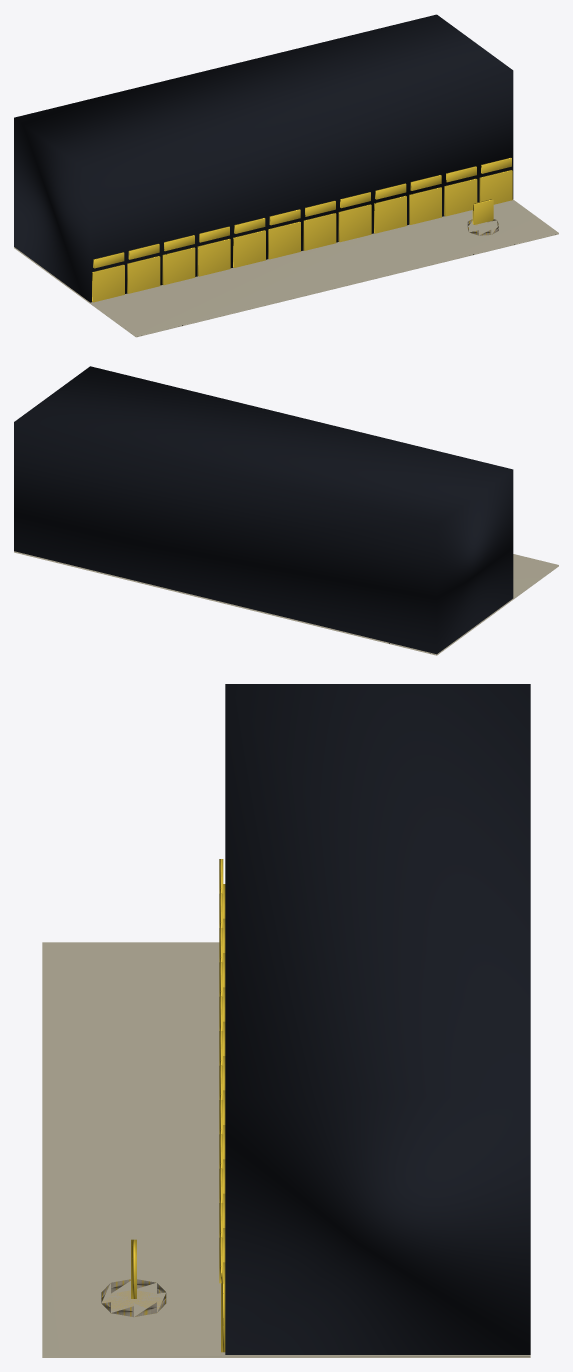
3 views of the same model, one above another, from view 1: azimuth 30°, elevation 25°; view 2: azimuth 150°, elevation 25°; view 3: azimuth 270°, elevation 25° (orthographic). The views are drawn at different scales.
Visible parts, largest first — view 1: building_simplified, floor_simplified; view 2: building_simplified, floor_simplified; view 3: building_simplified, floor_simplified.
Boxes of the visible parts, x1,y1,x2,y2 form: building_simplified: [14, 14, 513, 302]; floor_simplified: [14, 199, 558, 337]; building_simplified: [14, 366, 513, 654]; floor_simplified: [14, 551, 558, 655]; building_simplified: [101, 684, 530, 1354]; floor_simplified: [42, 942, 530, 1357].
Bounding box in the file's own units: 48 × 14.15 × 24.
2 materials, 2 textured.
